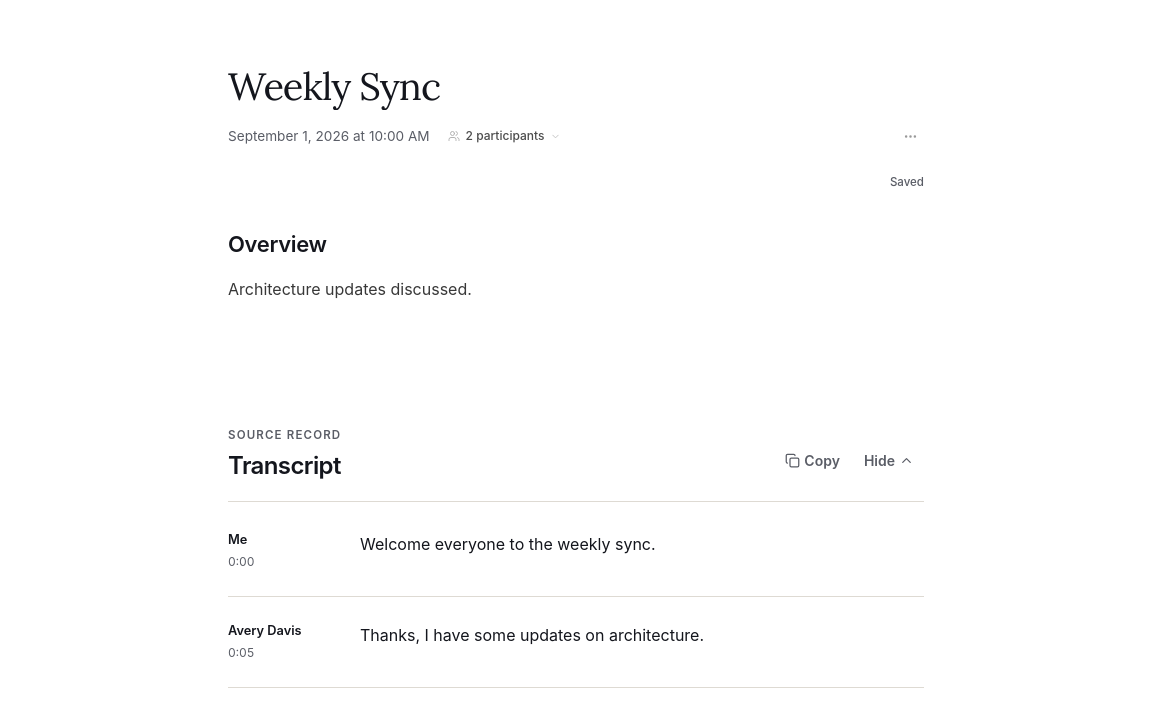
Scenario: MeetingView Navigation and Participants › renders participant count trigger and opens popover on click
Later steps or results of the test are not shown.
// Click trigger to open popover
Click the button "2 participants" at (504, 136), box [442, 126, 567, 146]
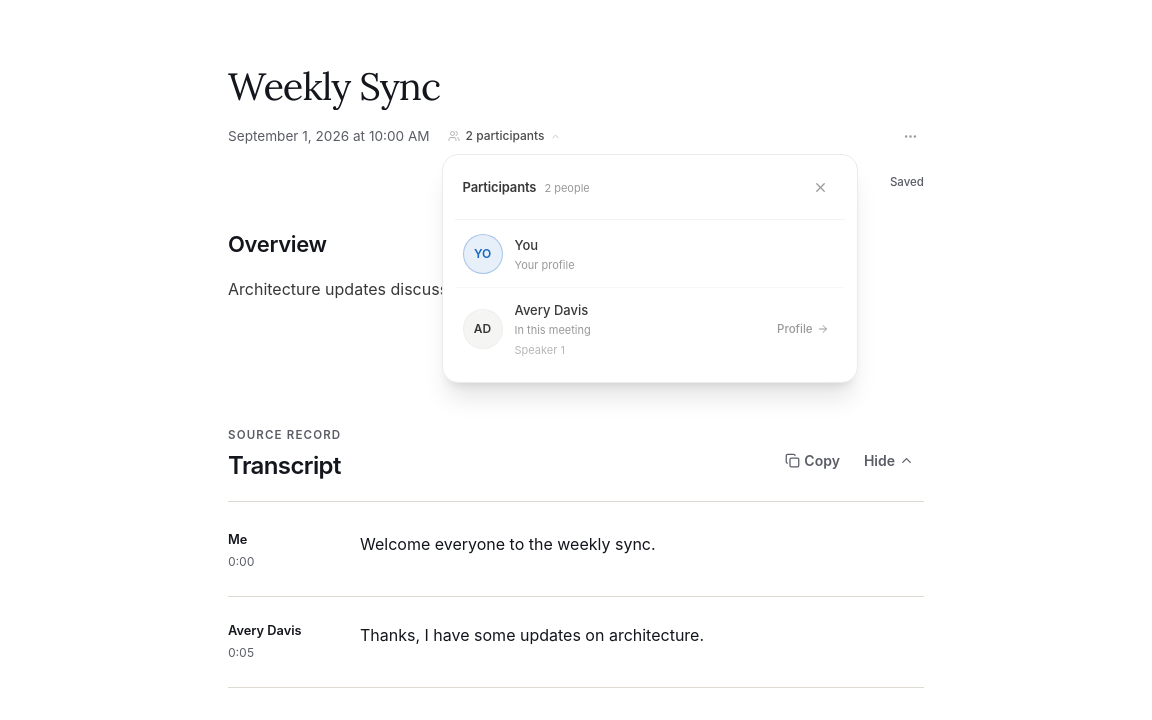
Result: the dialog with class "meeting-participants-popover" is shown at [442, 154, 858, 383]
Result: the dialog with class "meeting-participants-popover" shows "Avery Davis" at [514, 302, 588, 318]
Result: the button "Profile" is shown at [769, 313, 836, 345]
